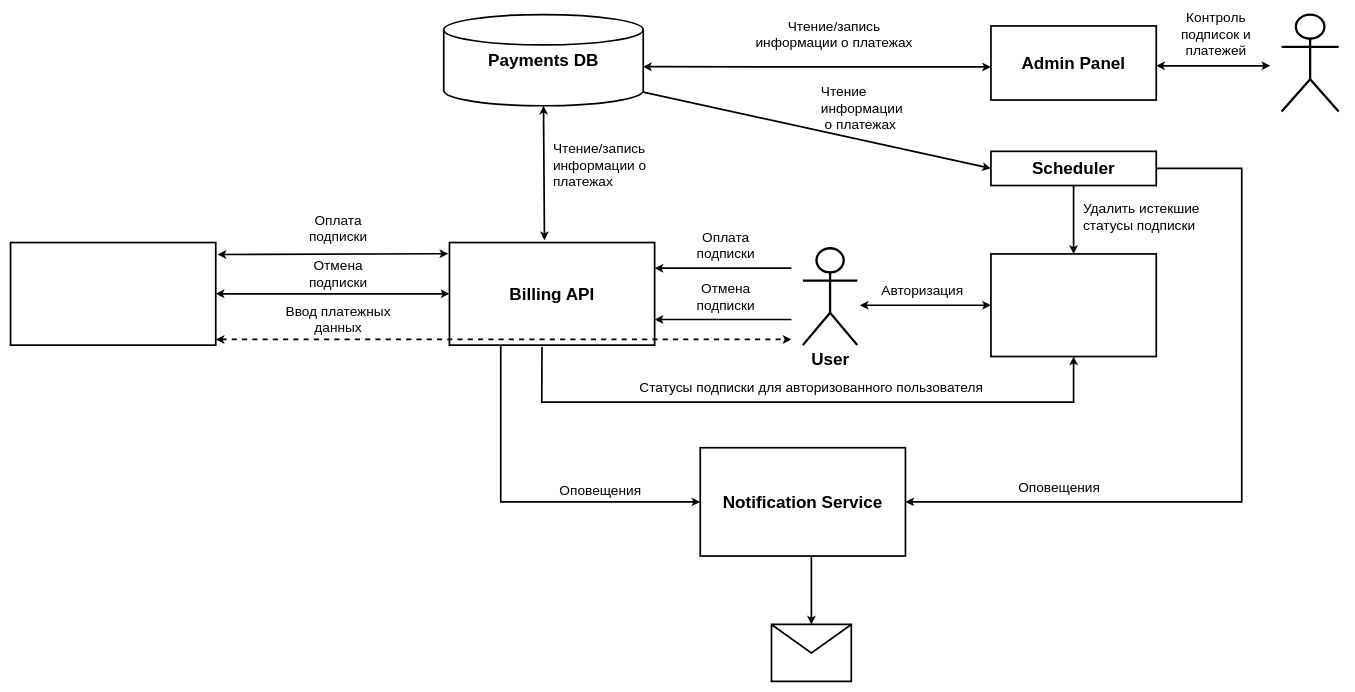
Some shapes in this 1355 by 692 pixel diagram are drawn without their labels. Here are the shapes that lost their labels. From the top down, the centre of each, then its label:
At point (1309, 62): "Manager".
At point (112, 293): "Payment System".
At point (1073, 305): "Auth Service".
